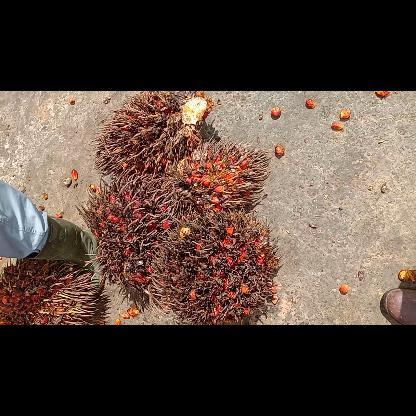Terlalu masak: (143, 204, 284, 324), (76, 168, 204, 296), (88, 90, 222, 186), (153, 131, 275, 231)
